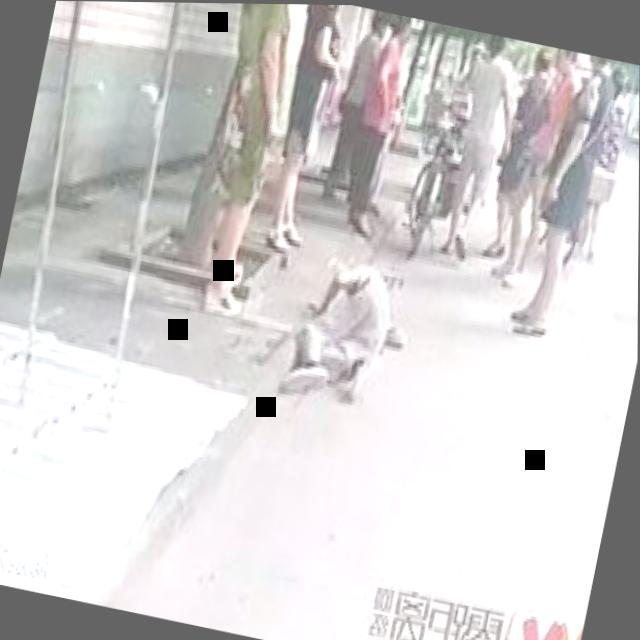Fall-Detected: (273, 224, 430, 417)
